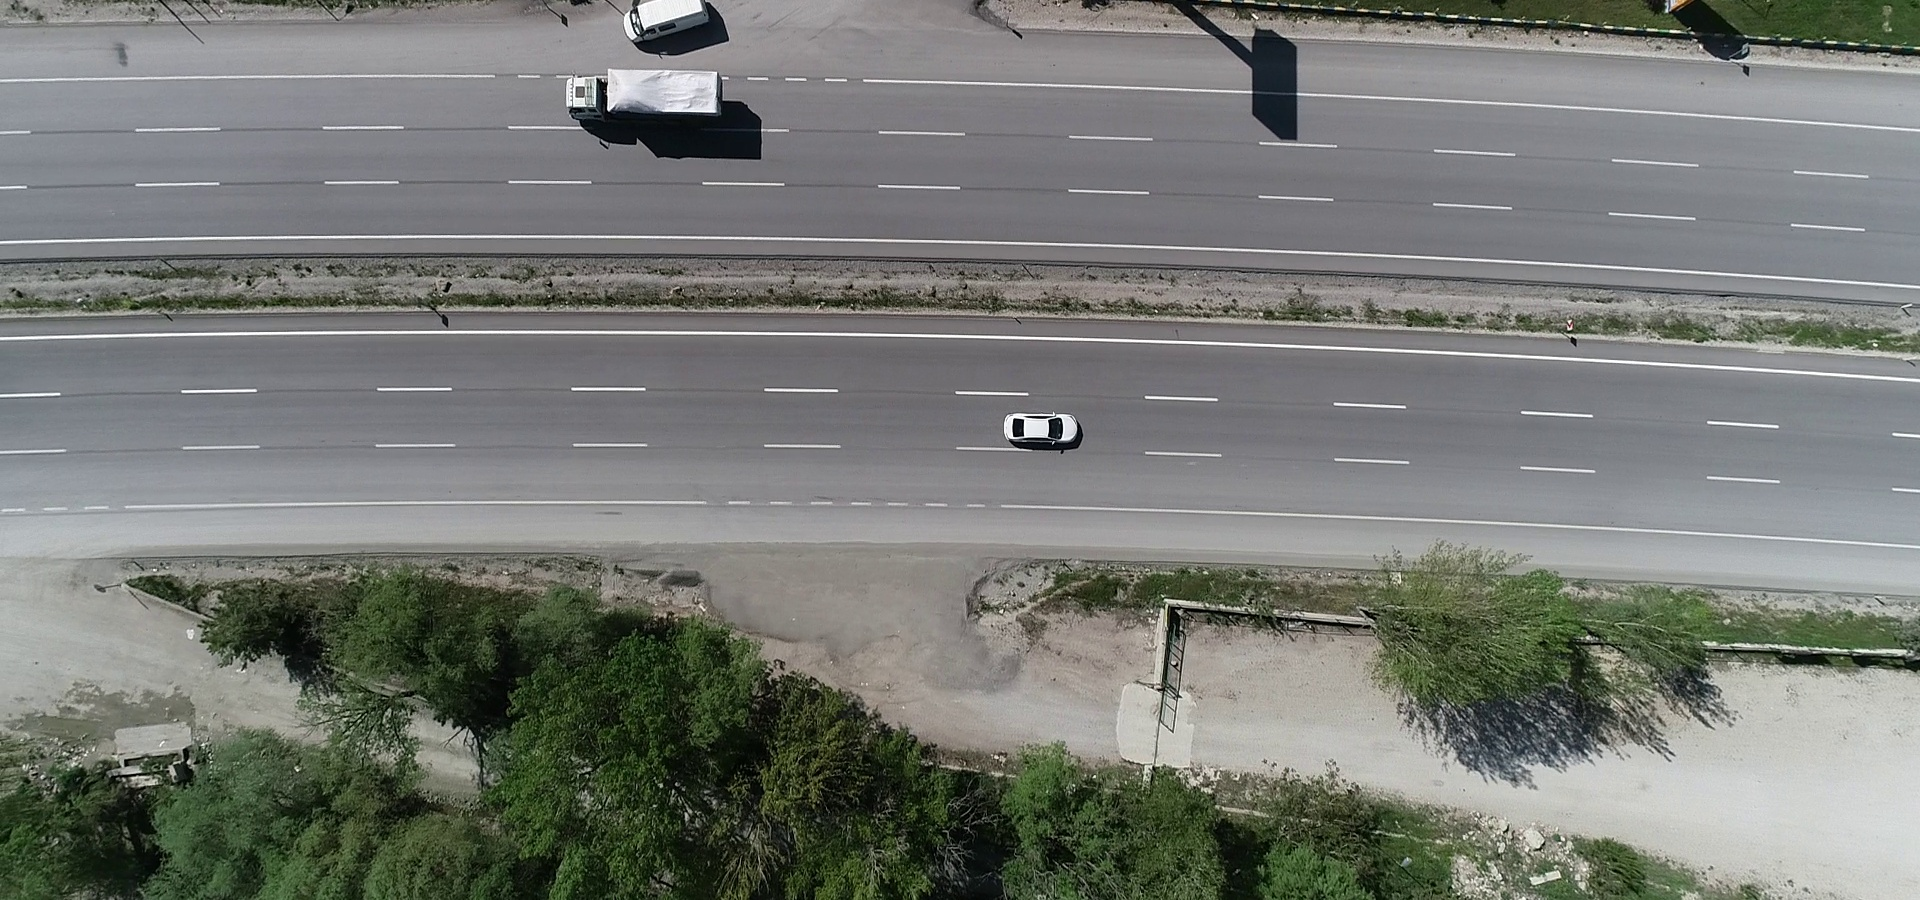araba: (606, 1, 722, 53), (998, 408, 1089, 451)
kamyon: (553, 58, 748, 129)
